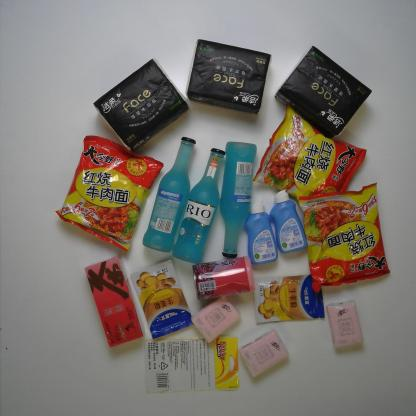Alcohol: (141, 136, 197, 254), (171, 147, 226, 266), (219, 140, 258, 259)
Canned Food: (190, 256, 256, 300)
Instant Drink: (83, 255, 143, 350)
Instant Noodles: (54, 134, 164, 254), (252, 104, 367, 203), (296, 182, 391, 292)
Personal Hygiene: (269, 189, 307, 254), (244, 198, 278, 265)
Seasoner: (129, 259, 194, 340), (252, 272, 326, 323)
Stationery: (142, 336, 240, 394)
Tissue: (274, 43, 374, 140), (90, 58, 190, 153), (185, 38, 272, 115), (236, 328, 290, 378), (190, 296, 242, 343), (325, 299, 364, 350)
